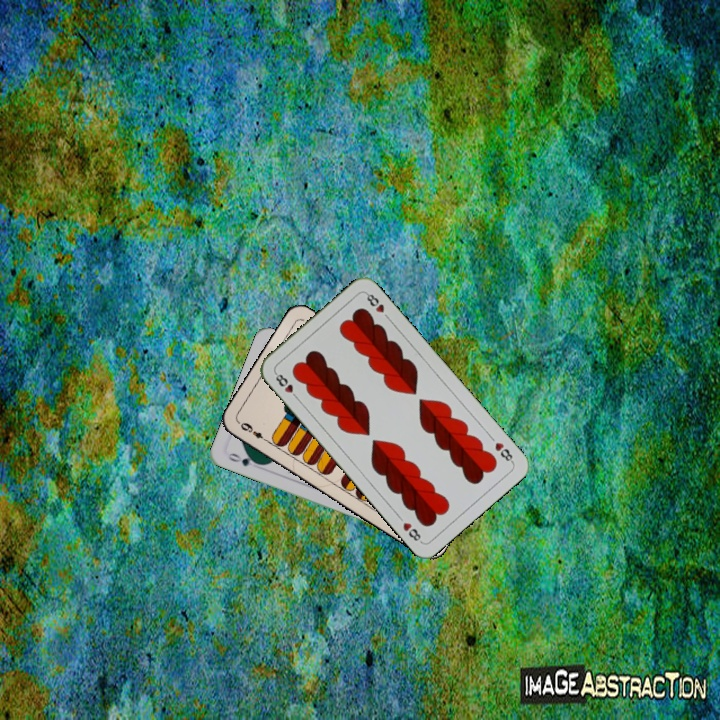E9: (235, 418, 271, 445)
GO: (224, 449, 264, 469)
H8: (271, 368, 301, 402), (491, 438, 516, 466)
